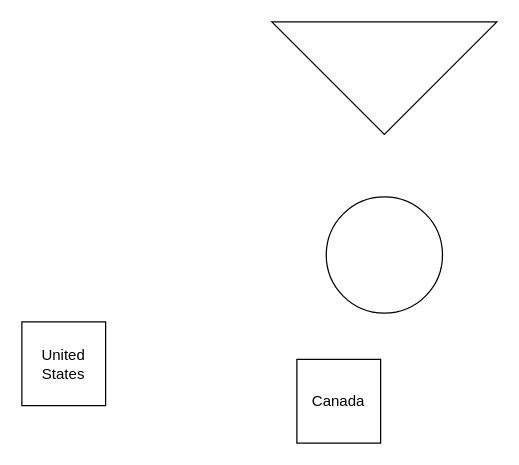
Some shapes in this 519 by 465 pixel diagram are drawn without their labels. The centre of each missing label's shape, as x and y in pixels:
"User arrives at PBS.org" goes at (384,77).
"Where is user located?" goes at (383,254).
